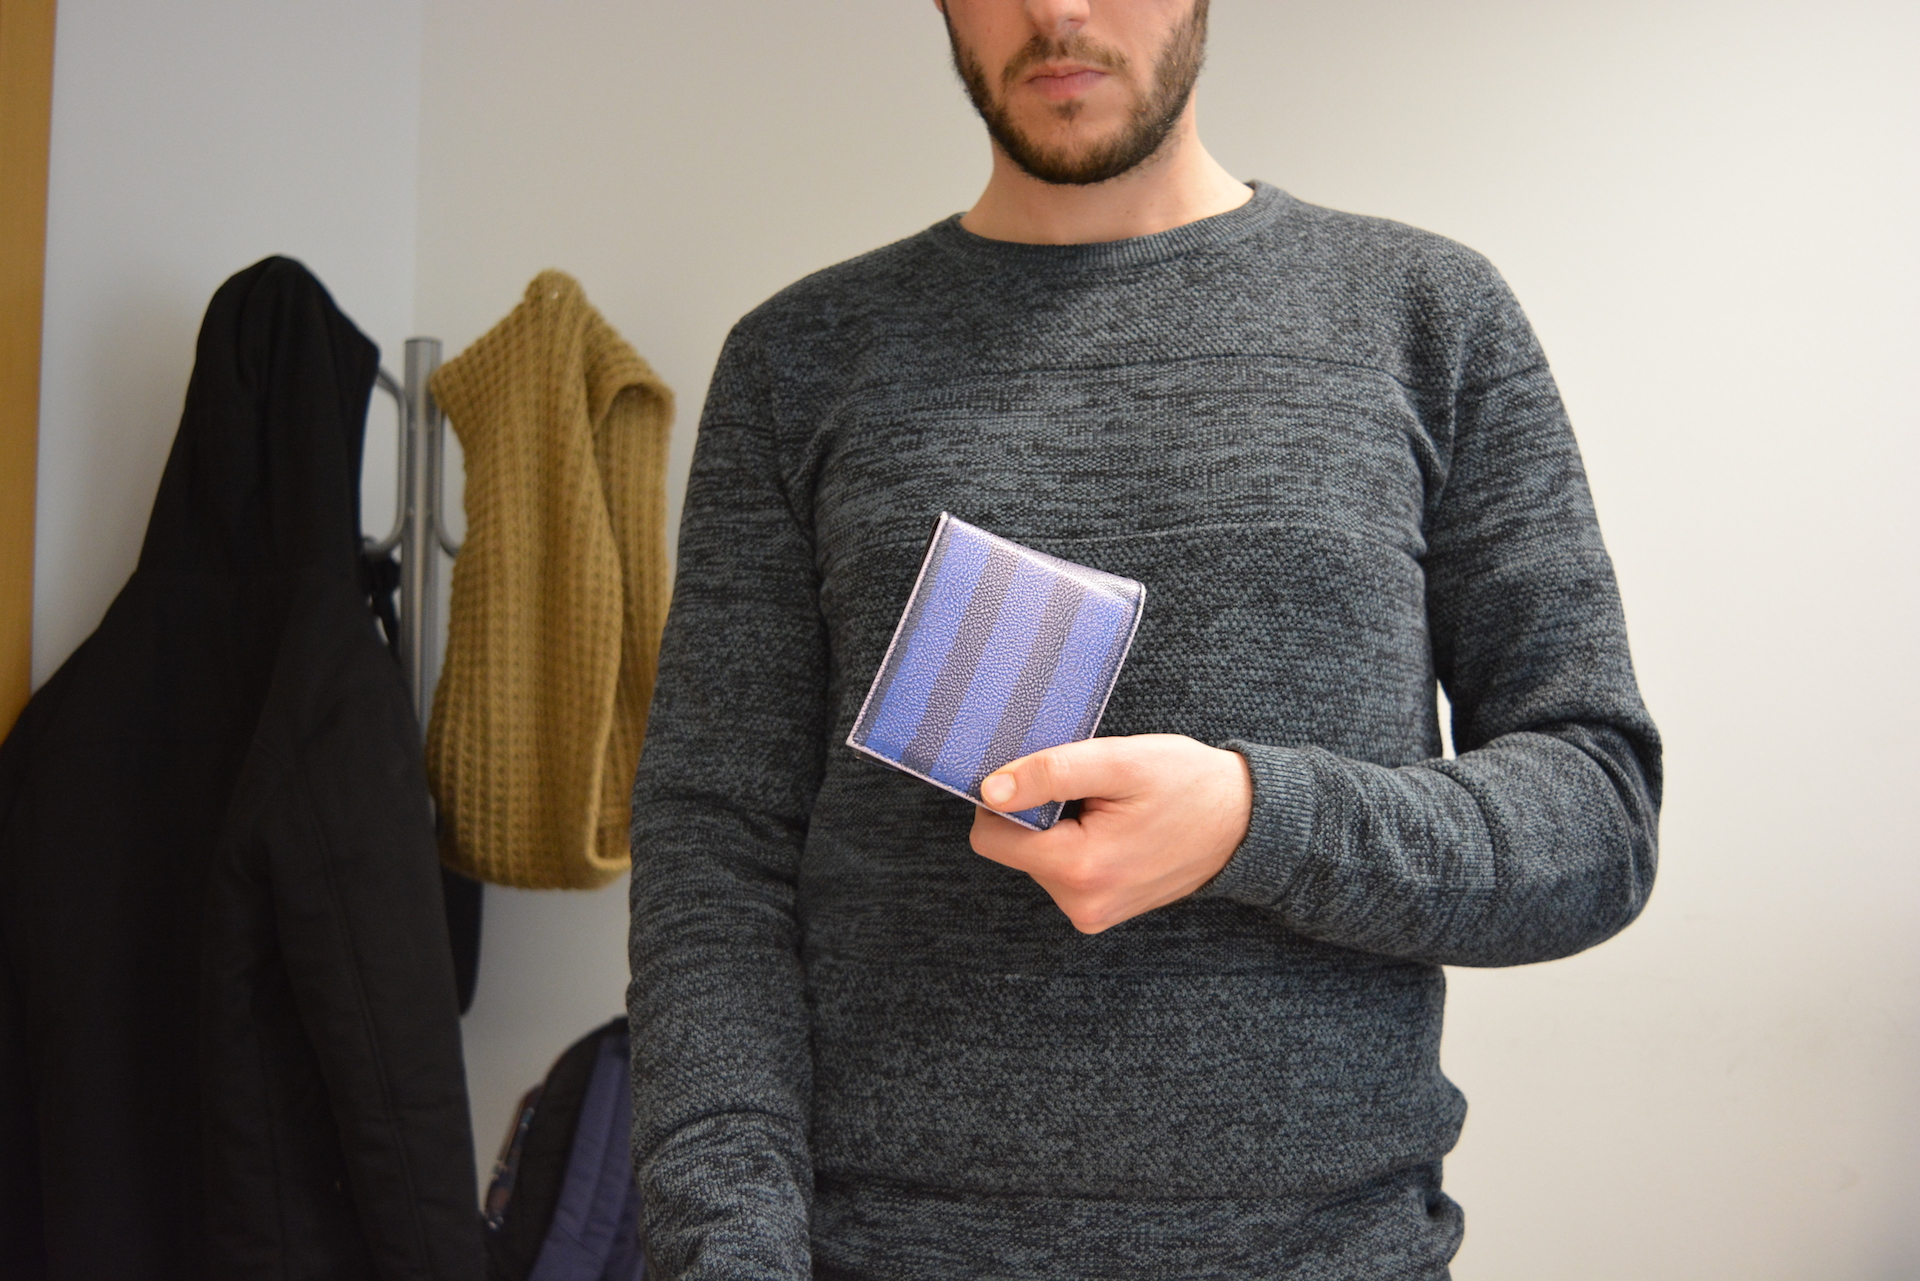monedero: (843, 508, 1148, 834)
